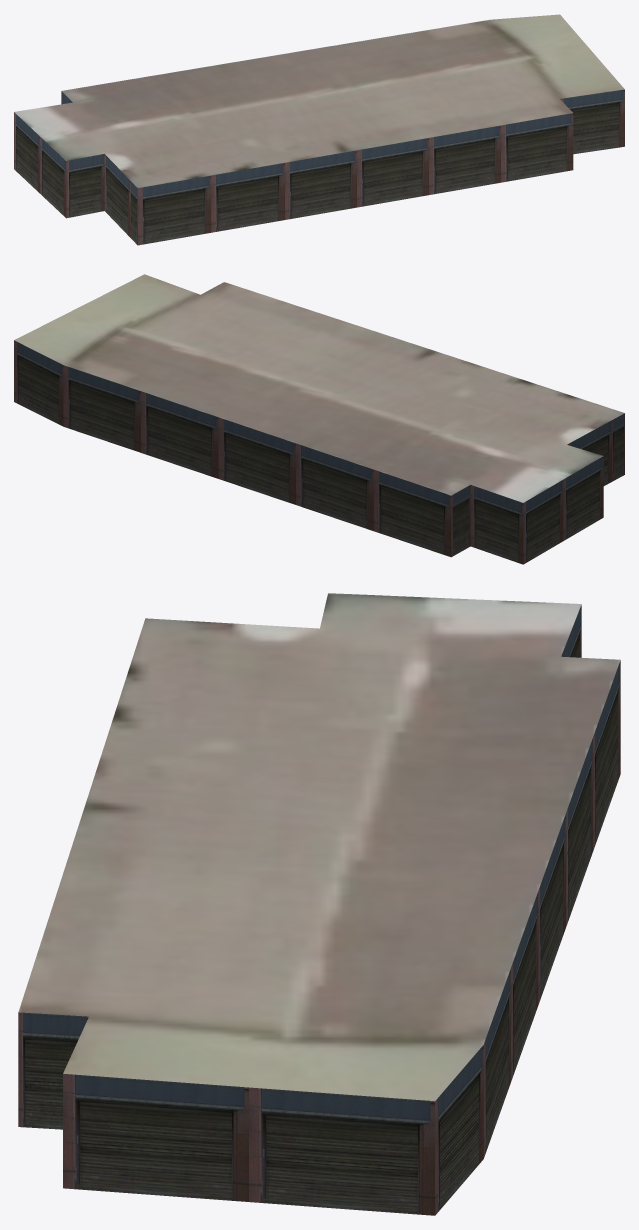
3 renders of one model, top to bottom at view 1: azimuth 30°, elevation 25°; view 2: azimuth 150°, elevation 25°; view 3: azimuth 270°, elevation 25°, orthographic. The views are drawn at different scales.
Visible parts, largest first — view 1: SketchUp (×8); view 2: SketchUp (×8); view 3: SketchUp (×5).
Boxes of the visible parts, left/top/right/bottom form: SketchUp (×8): left=14, top=14, right=624, bottom=245; SketchUp (×8): left=14, top=274, right=624, bottom=564; SketchUp (×5): left=18, top=593, right=620, bottom=1215.
Bounding box in the file's own units: 37.75 × 18.91 × 3.97.
2 materials, 2 textured.
